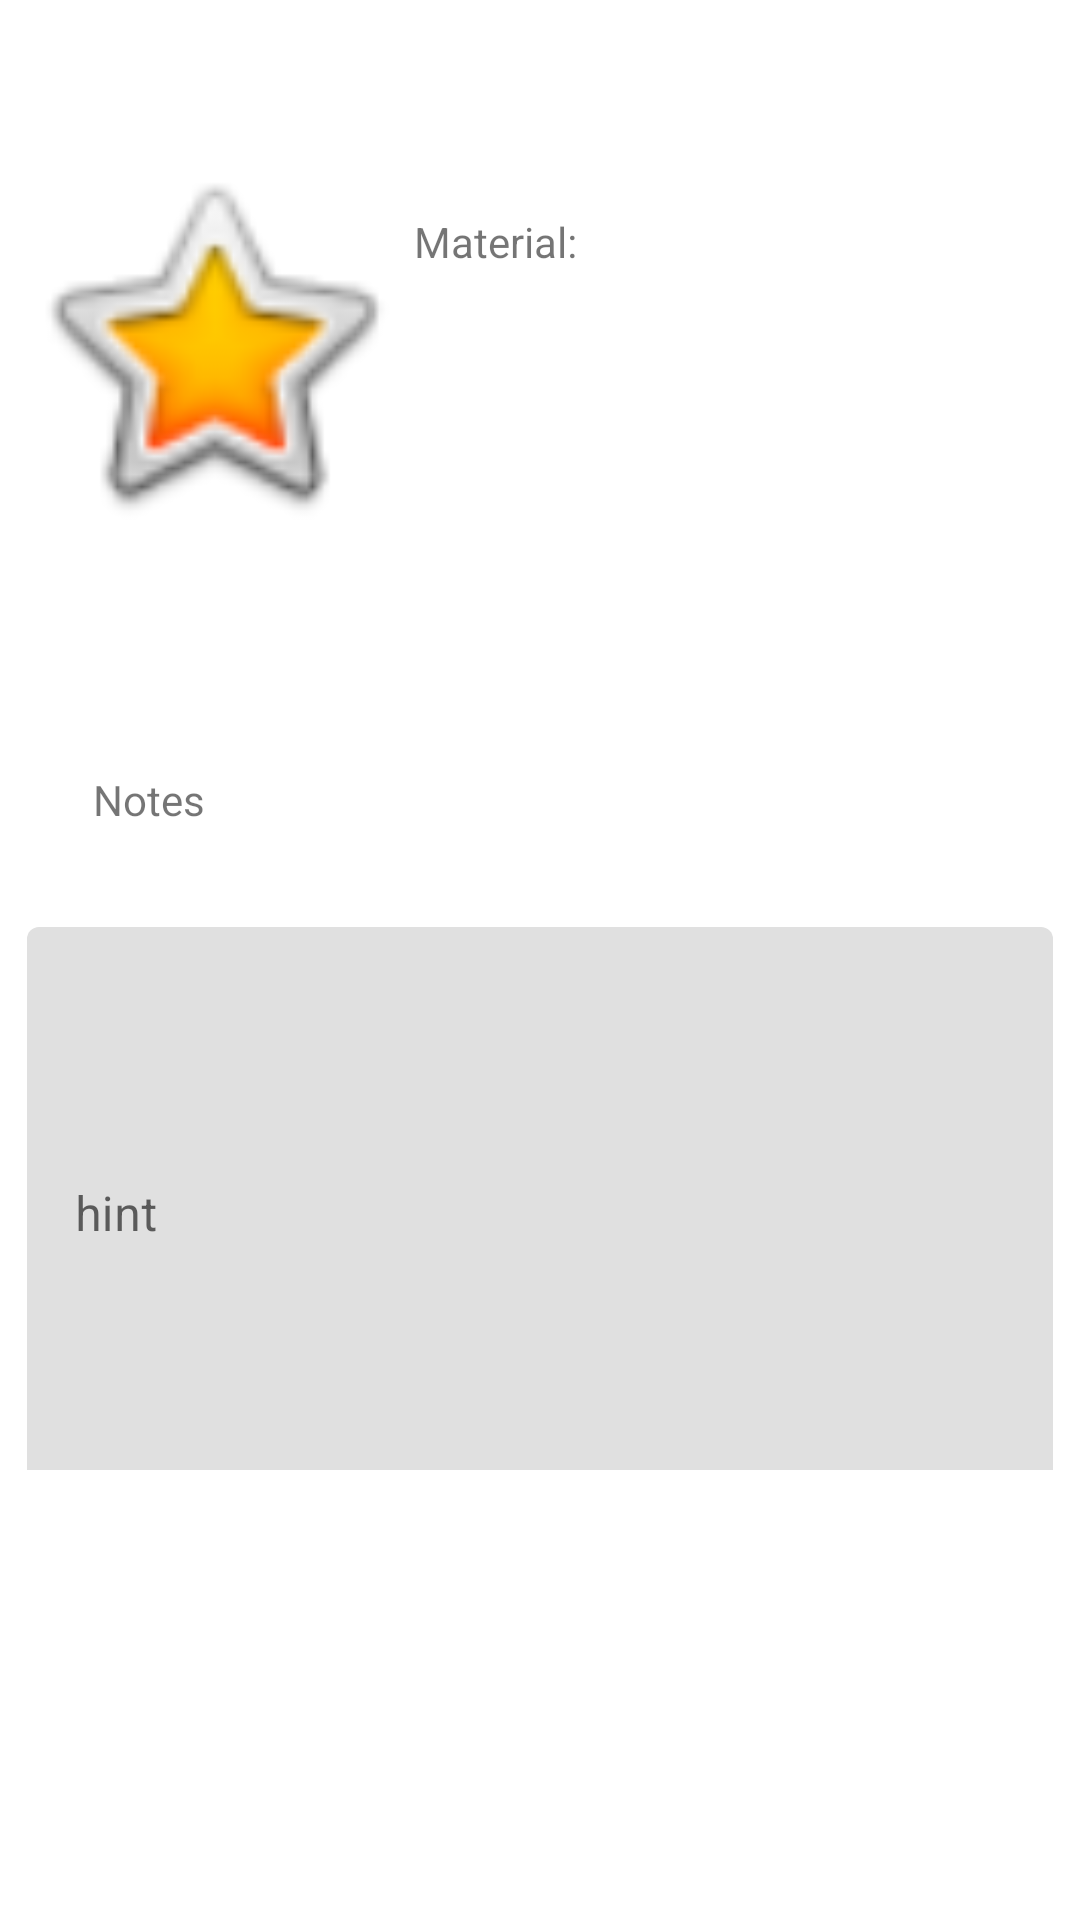

Locate icon controls on the screen. Image size 1080px×1920px, boxes as (x1, y1, x2, y2).
star on: (52, 188, 378, 505)
